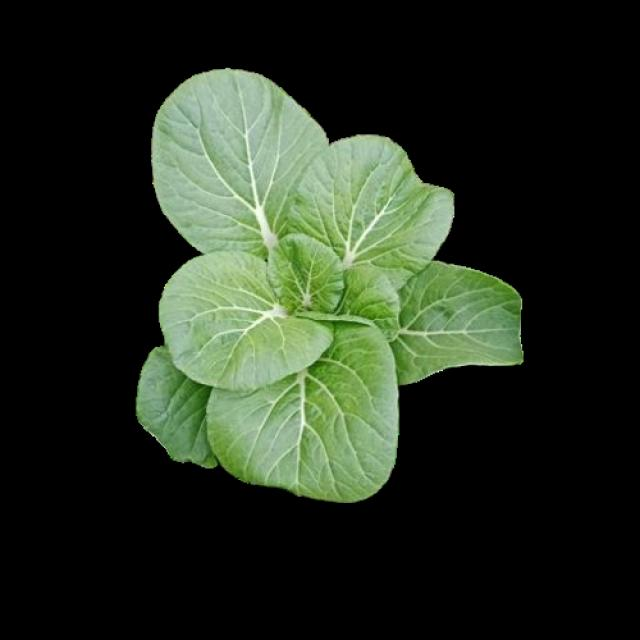healthy: (133, 69, 520, 498)
mature: (136, 72, 522, 500)
